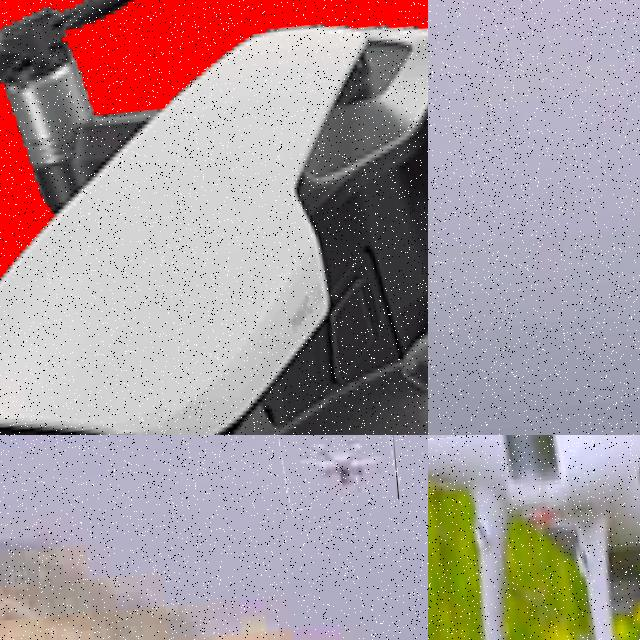drone: (0, 0, 428, 435), (428, 435, 640, 640), (277, 435, 399, 508)
